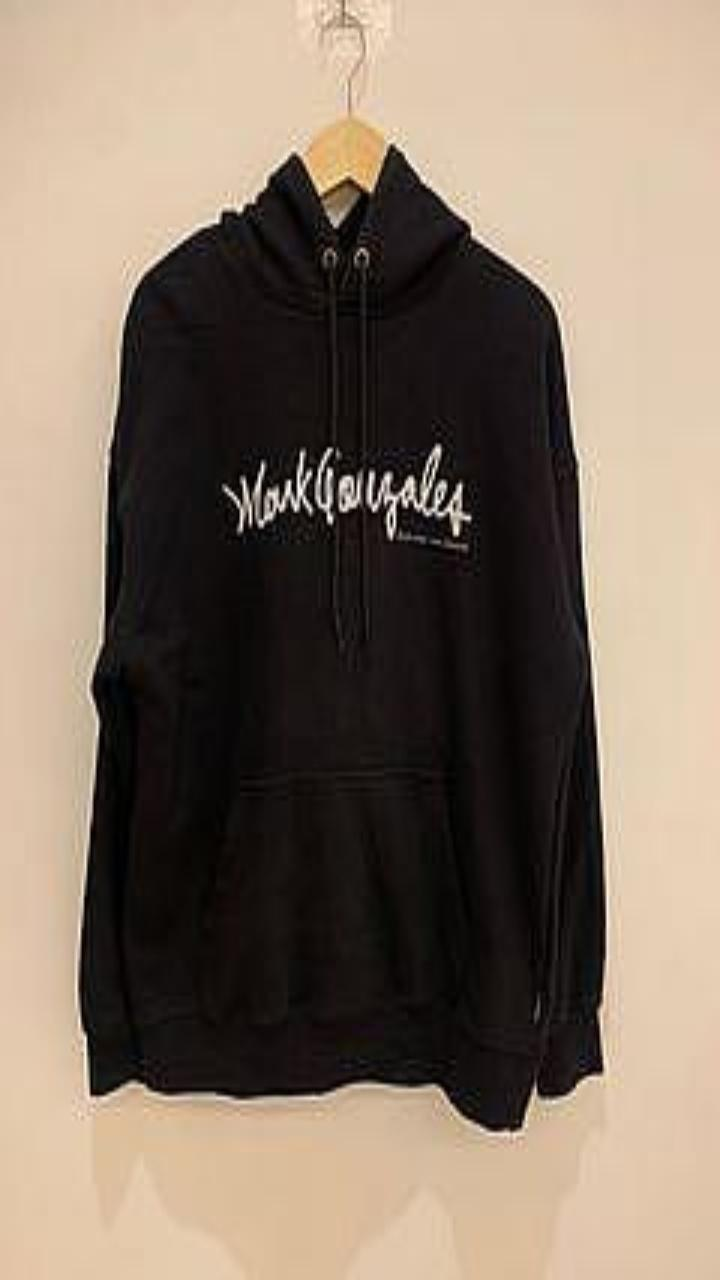Hoodie: (79, 143, 604, 1128)
